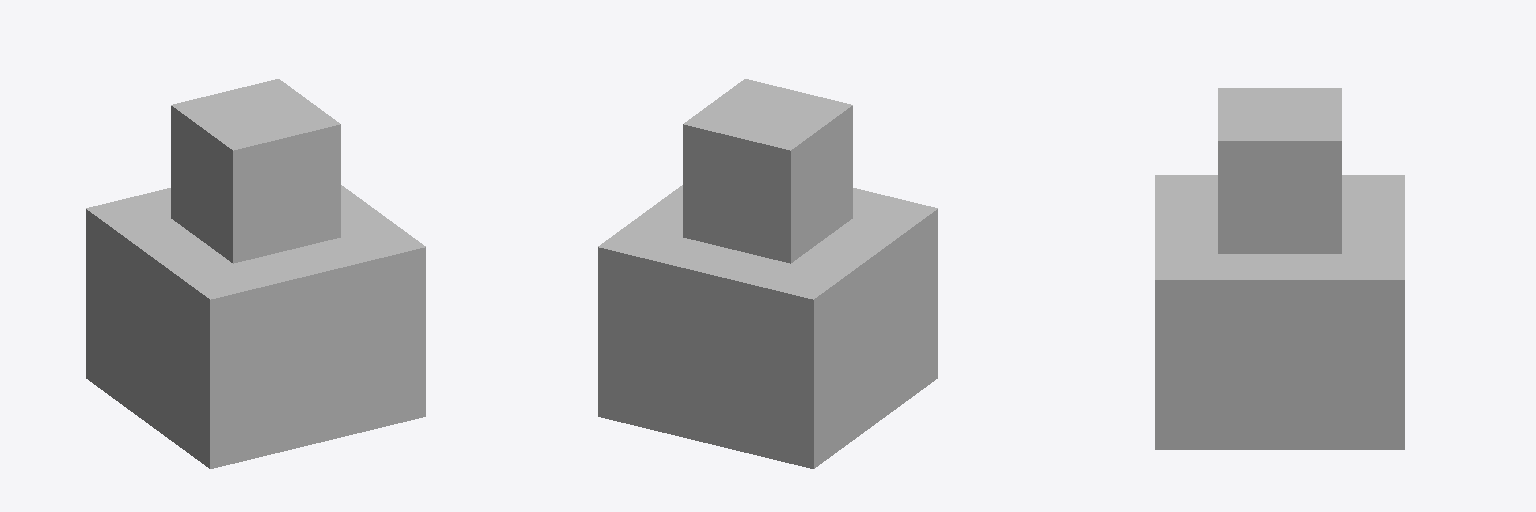
File: flakon hp.obj
3 views of the same model, side by side, from view 1: azimuth 30°, elevation 25°; view 2: azimuth 150°, elevation 25°; view 3: azimuth 270°, elevation 25° (orthographic).
Visible parts, largest first — view 1: object 1; view 2: object 1; view 3: object 1.
Boxes of the visible parts, <box> form: object 1: <box>86,79,425,468</box>; object 1: <box>598,79,937,468</box>; object 1: <box>1155,88,1404,449</box>.
Size of the model in its own units: 0.4 by 0.5 by 0.4.